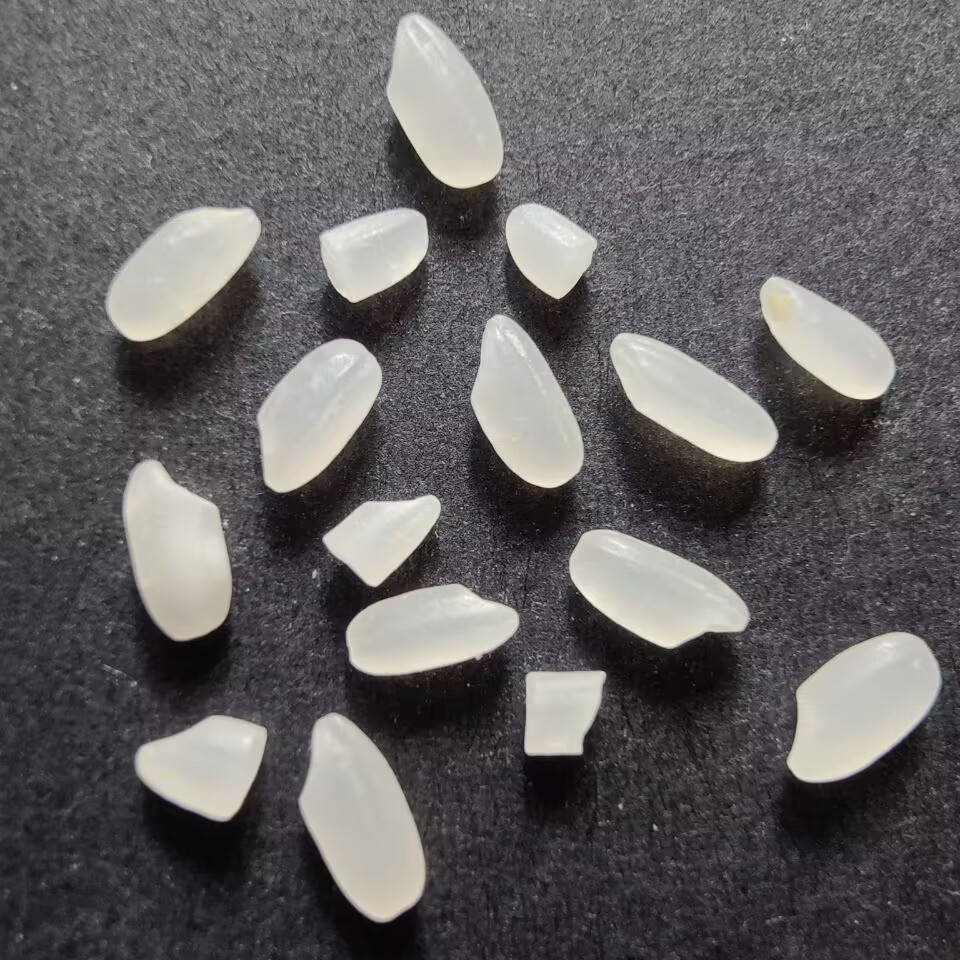broken: (126, 707, 272, 822), (311, 205, 432, 307), (318, 489, 442, 588), (498, 198, 599, 301), (517, 665, 612, 765)
rice: (292, 706, 430, 926), (775, 629, 944, 788), (604, 324, 783, 470), (565, 519, 752, 656), (381, 5, 506, 196), (100, 201, 265, 345), (121, 451, 235, 647), (468, 311, 587, 494), (252, 336, 384, 494), (755, 268, 900, 404), (342, 581, 523, 680)
